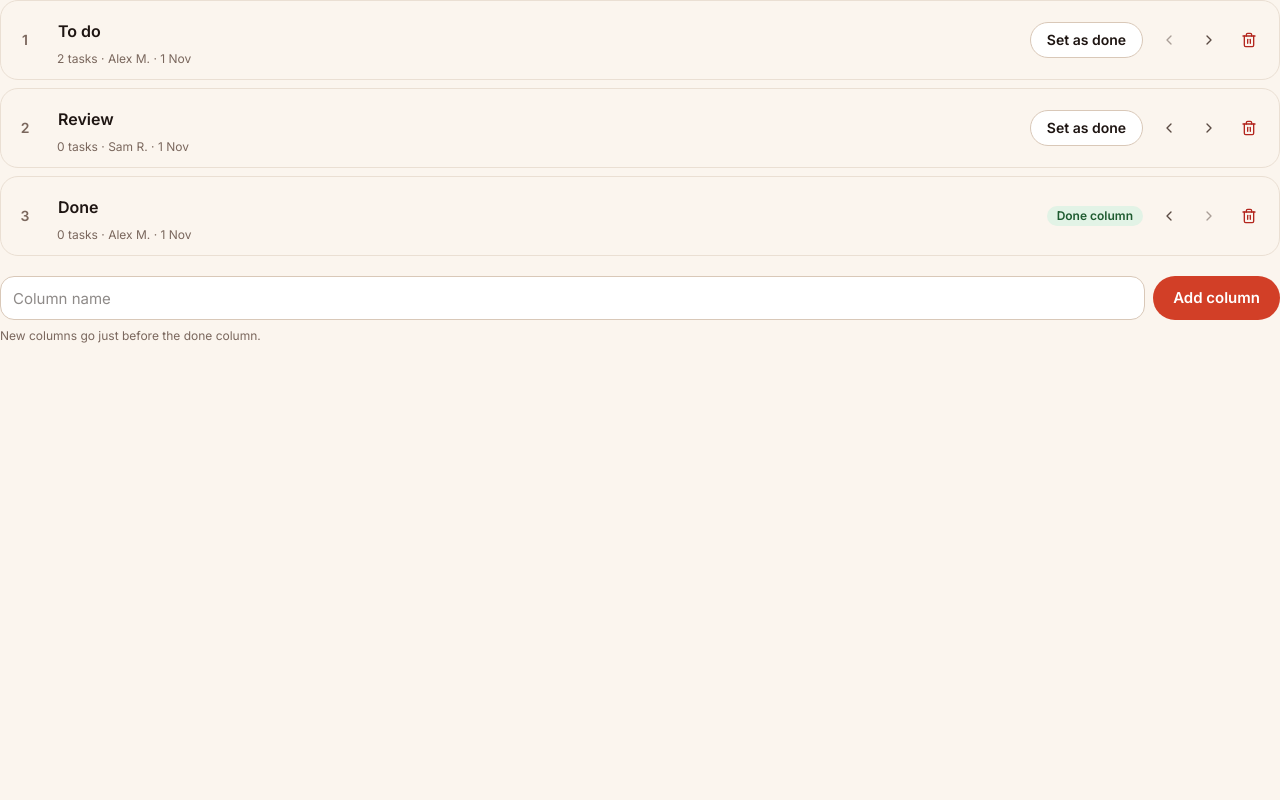
ColumnsSection › renames on Enter, and delete from settings only offers moving the tasks
Replace the text in the text box named "Name of column 2" with "QA" at point(533, 119), box [49,101,1018,137]
Then press Enter
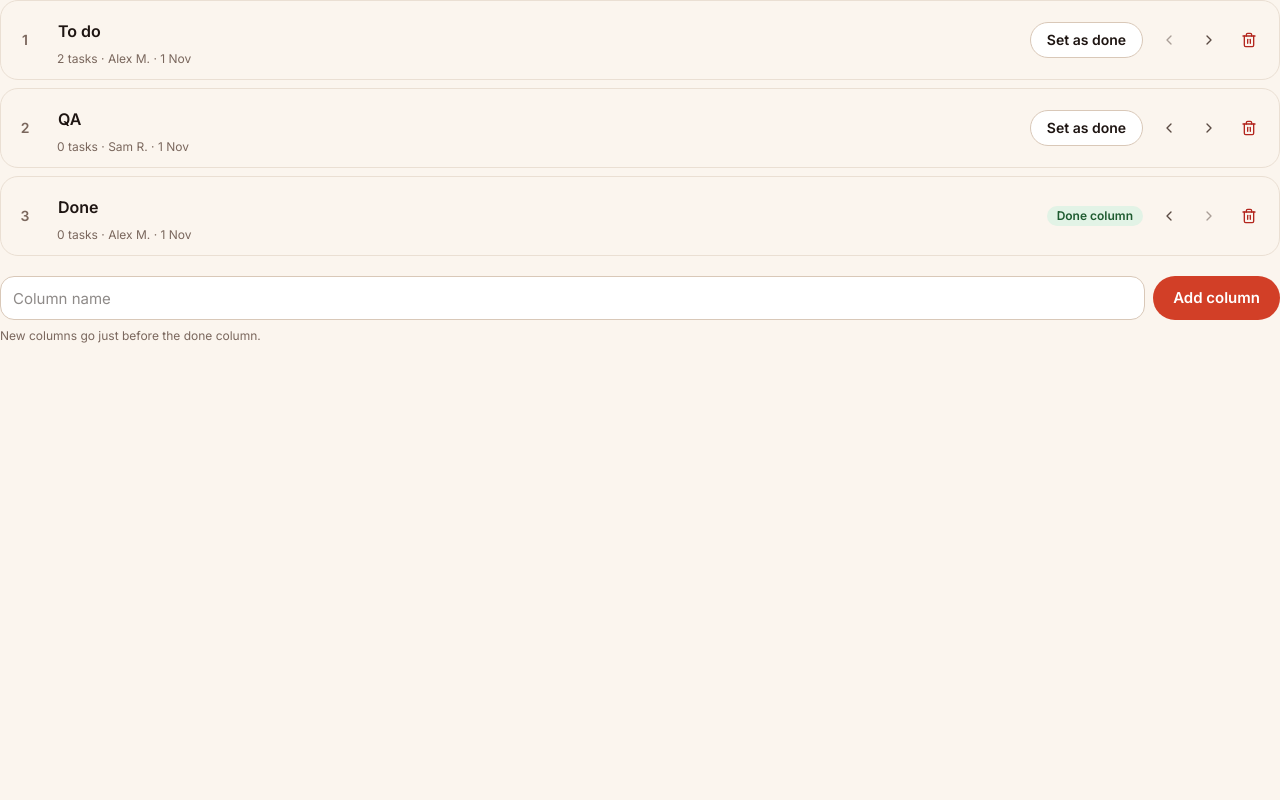
Click the button named "Delete To do" at point(1249, 40), box [1231,22,1267,58]
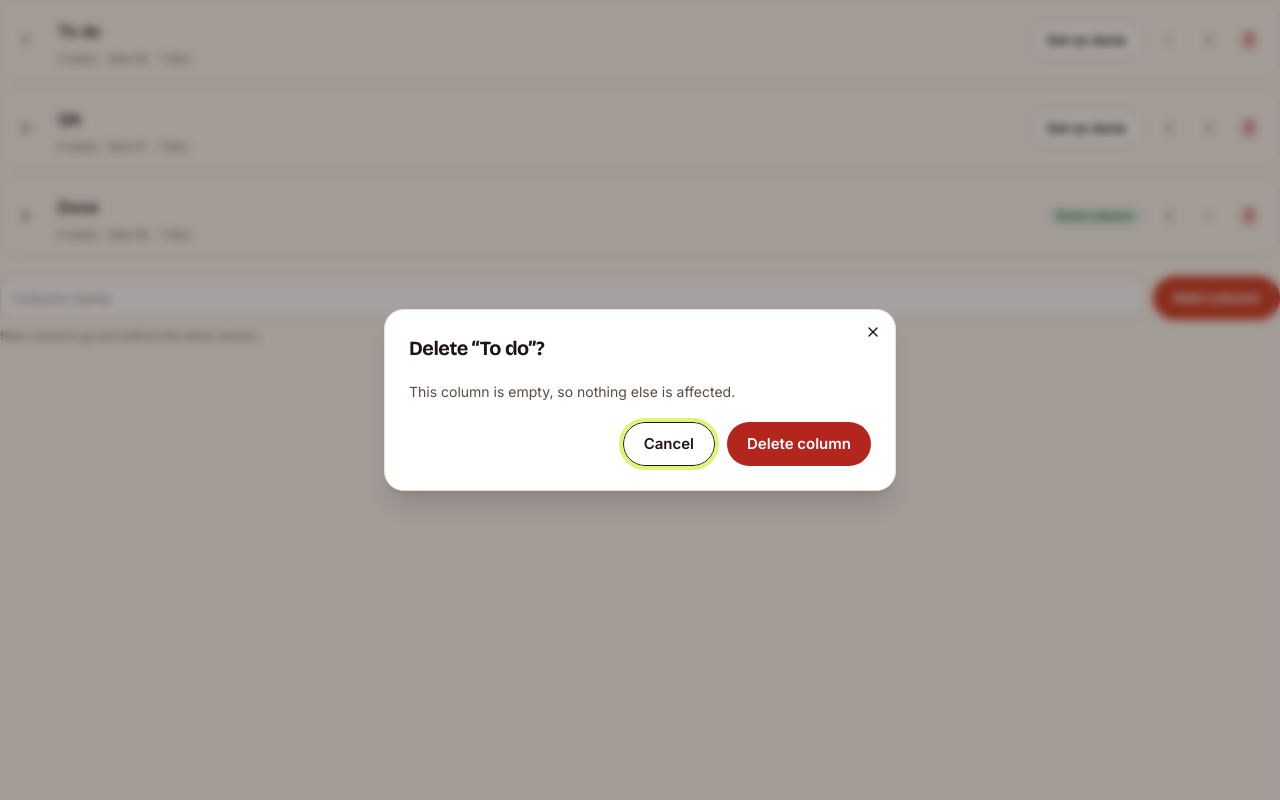
Result: the dialog "Delete “To do”?" is shown at [384,309,896,491]
